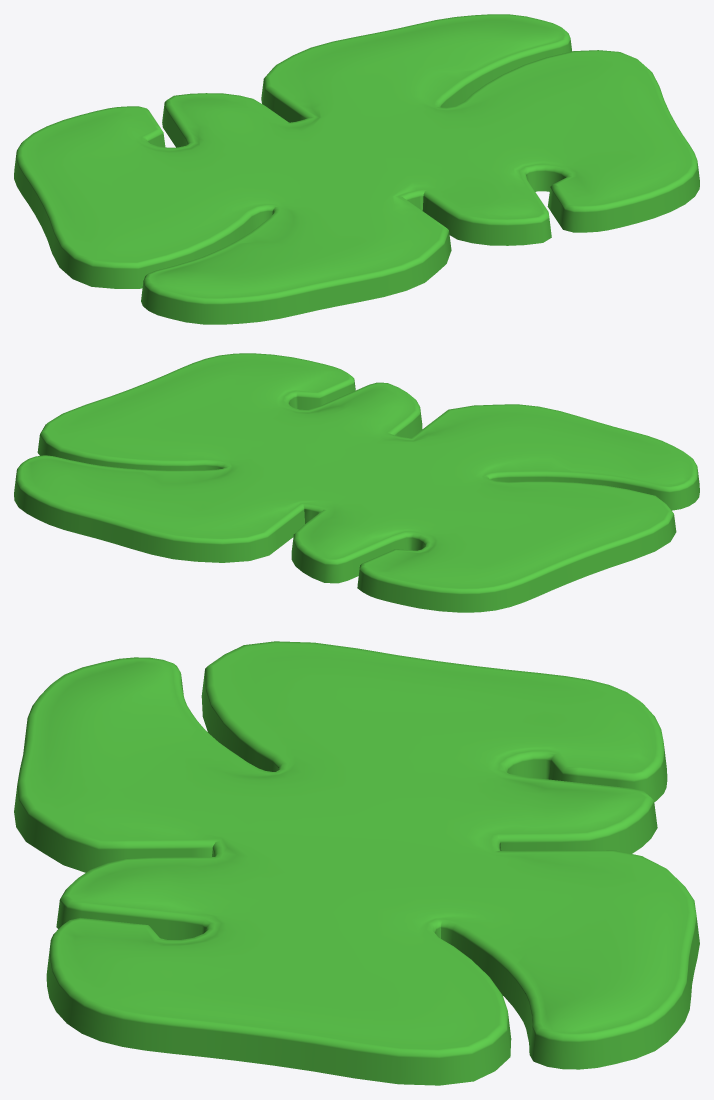
Rendered from Map_MDL 1.fbx.
3 views of the same model, one above another, from view 1: azimuth 30°, elevation 25°; view 2: azimuth 150°, elevation 25°; view 3: azimuth 270°, elevation 25° (orthographic). The views are drawn at different scales.
Visible parts, largest first — view 1: Map_MDL; view 2: Map_MDL; view 3: Map_MDL.
Boxes of the visible parts, x1=… form: Map_MDL: x1=14, y1=14, x2=699, y2=324; Map_MDL: x1=14, y1=353, x2=699, y2=612; Map_MDL: x1=14, y1=641, x2=699, y2=1085.
Bounding box in the file's own units: 6499 × 228 × 4530.
